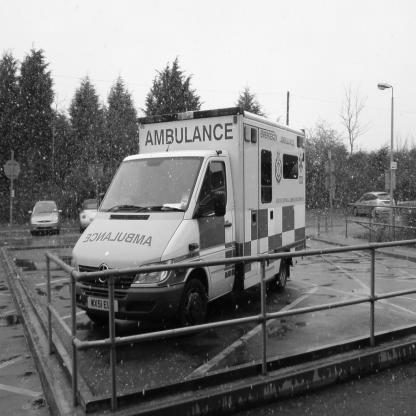ambulance: (54, 99, 337, 360)
